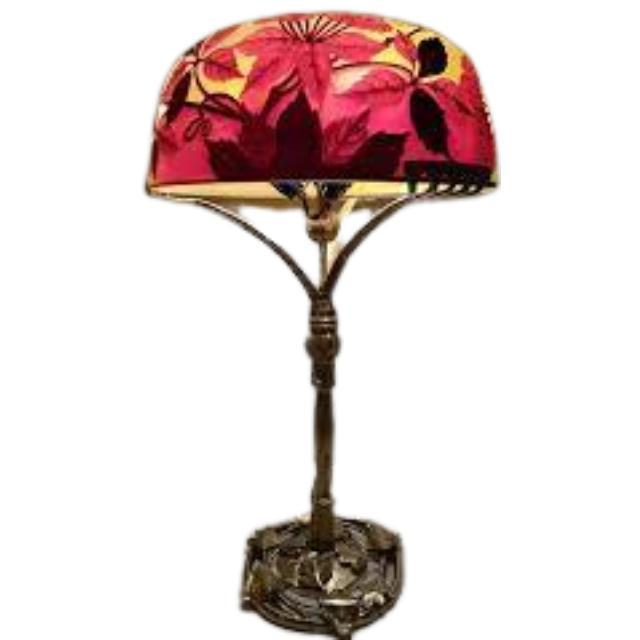lamp: (144, 13, 498, 640)
